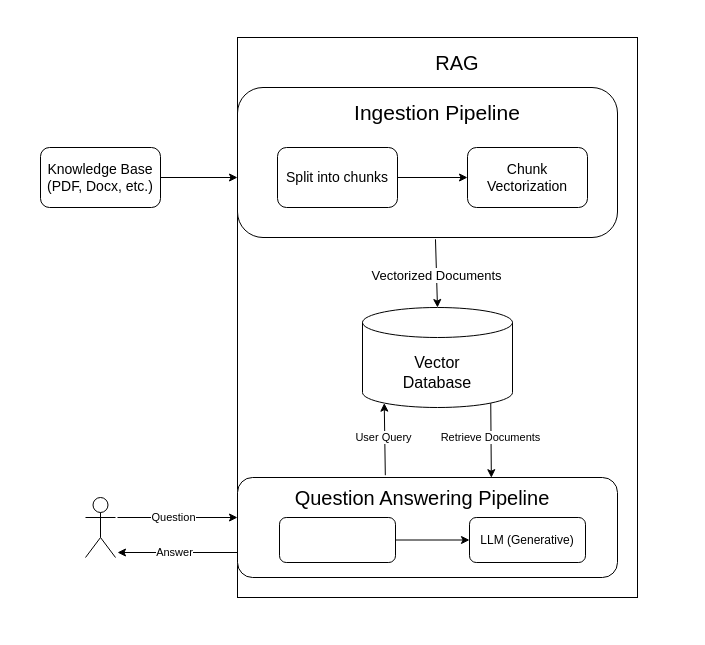
This 705x645 diagram has some shape labels left out. The box of each missing label's shape, as (x1, y1, x2, y2) in pixels:
Relevant Docs + Query (Augmented): (278, 516, 396, 562)
User: (84, 496, 116, 558)
